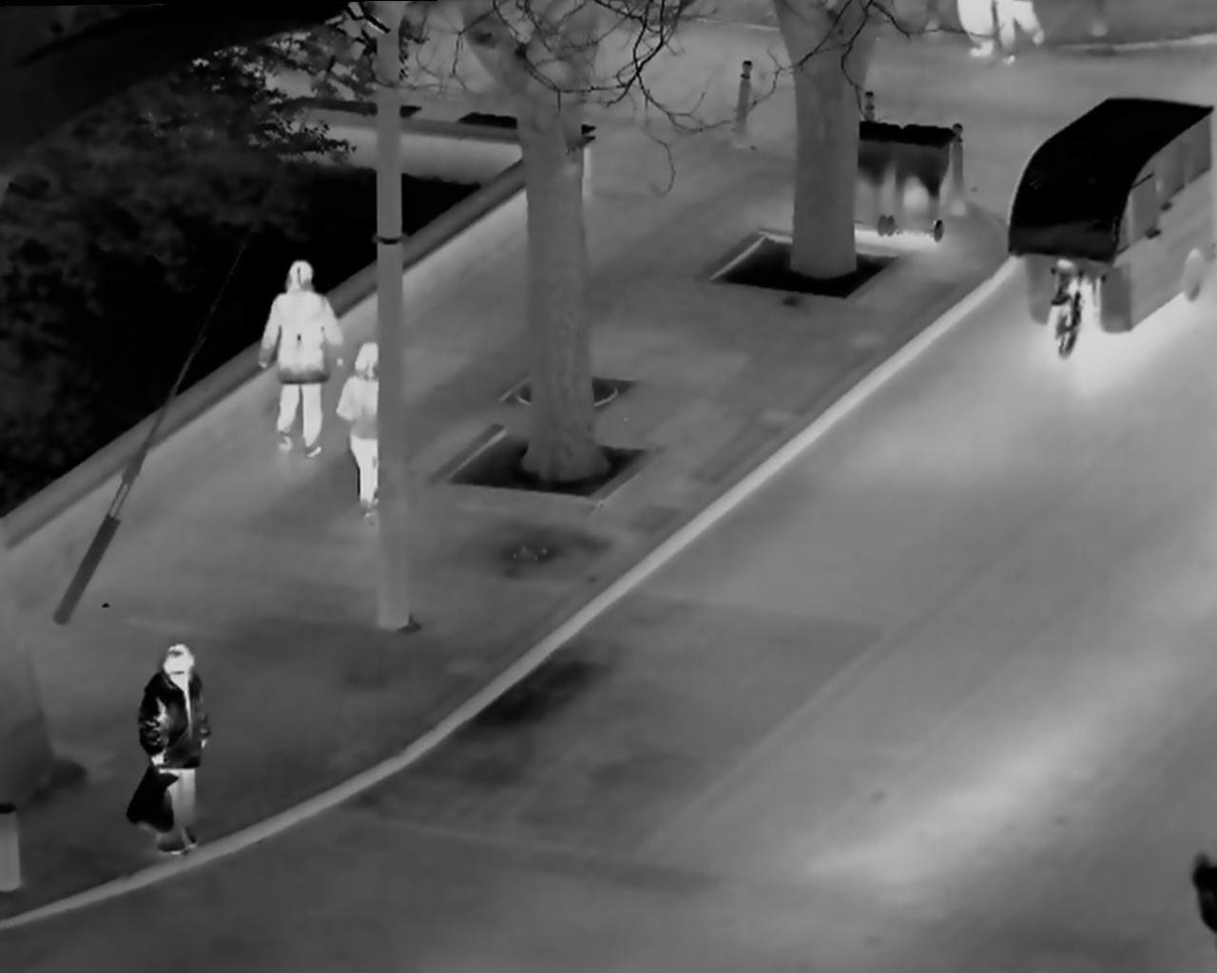person: (131, 626, 221, 868), (253, 243, 345, 455), (337, 330, 395, 528)
